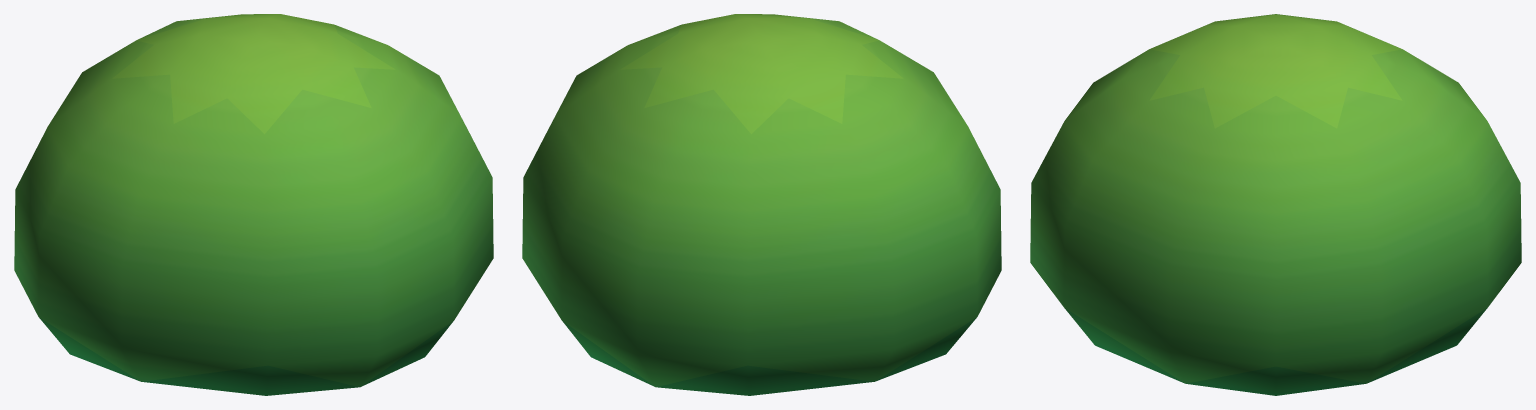
File: bush_1_b_color1.1f3efc97.glb
3 renders of one model, left to right at view 1: azimuth 30°, elevation 25°; view 2: azimuth 150°, elevation 25°; view 3: azimuth 270°, elevation 25°, orthographic.
Visible parts, largest first — view 1: Bush_1_B_Color1; view 2: Bush_1_B_Color1; view 3: Bush_1_B_Color1.
Part boxes in pixels (x1,y1,x2,y2): Bush_1_B_Color1: [14, 14, 493, 395]; Bush_1_B_Color1: [522, 14, 1001, 395]; Bush_1_B_Color1: [1030, 14, 1521, 395].
Size of the model in its own units: 0.7224 by 0.4841 by 0.7224.
1 material, 1 textured.
